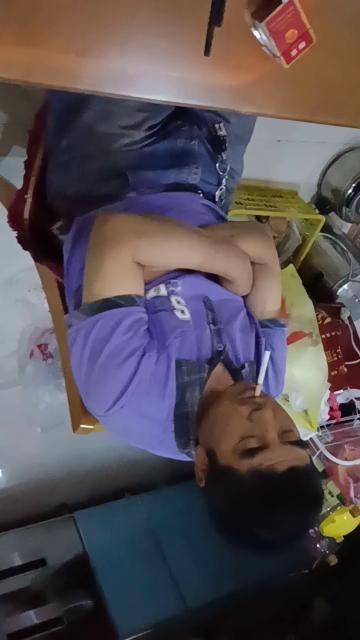Cigarette: (254, 350, 272, 396)
